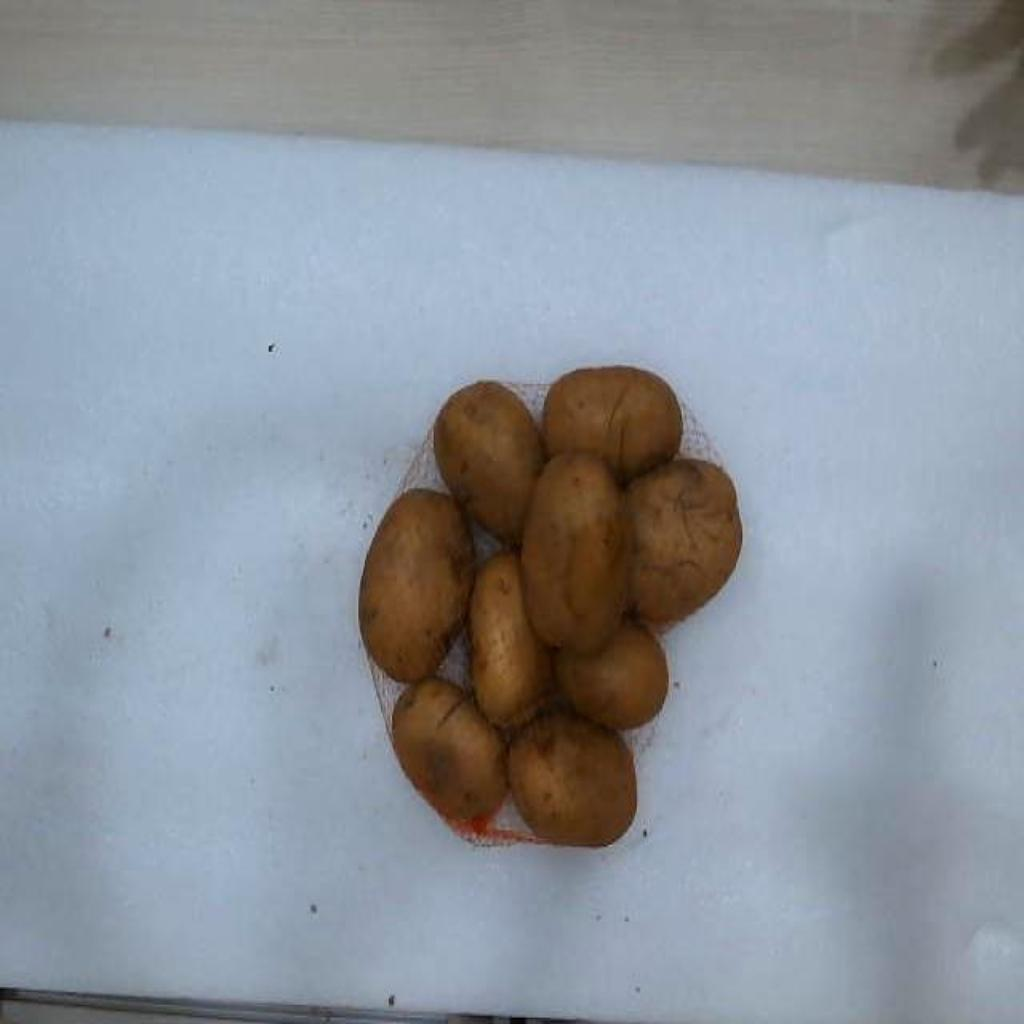potato: (358, 488, 474, 681), (524, 451, 630, 652), (626, 459, 740, 623), (434, 381, 544, 544), (510, 709, 636, 845), (392, 677, 506, 820), (542, 365, 682, 481), (472, 552, 552, 727), (556, 619, 668, 729)
